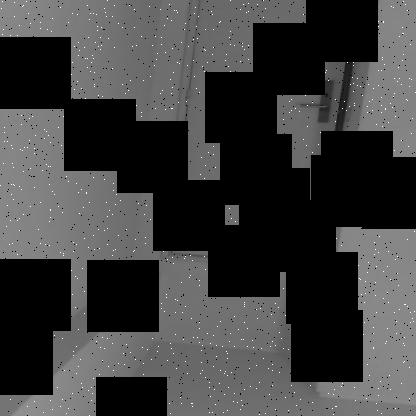Porte: (161, 1, 364, 269)
